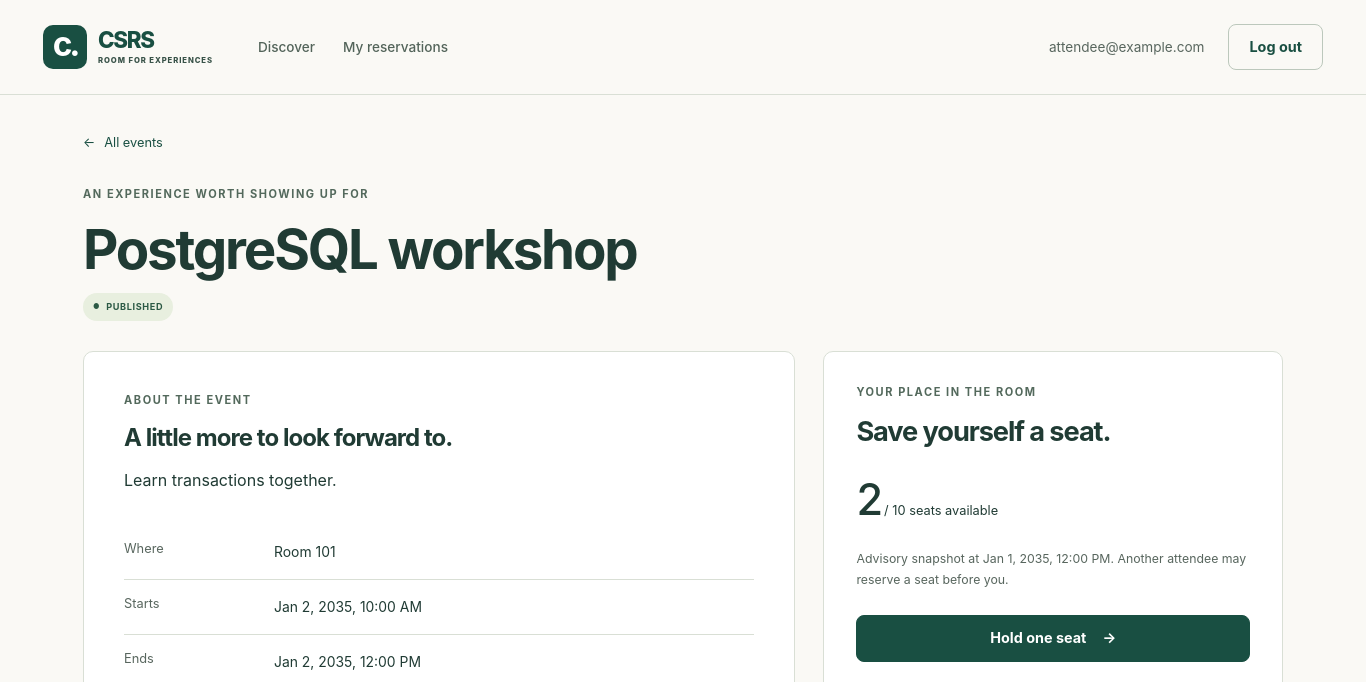
Test: events and reservation workflows › holds a seat and navigates to authoritative detail
Click the button "Hold one seat →": click(1053, 638) [856,615,1250,662]
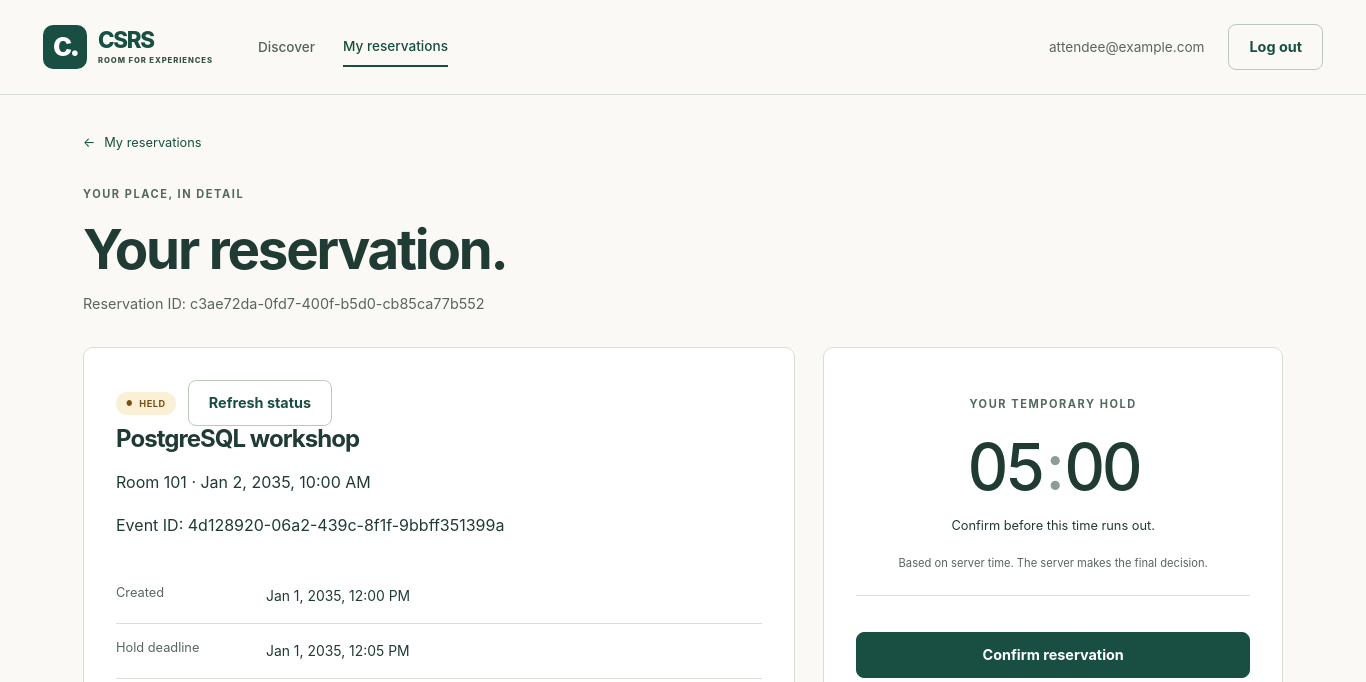
Expected: the element showing "05:00" is shown, [967,428,1139,505]
Expected: the text "Reservation ID:" is shown, [83,295,190,312]
